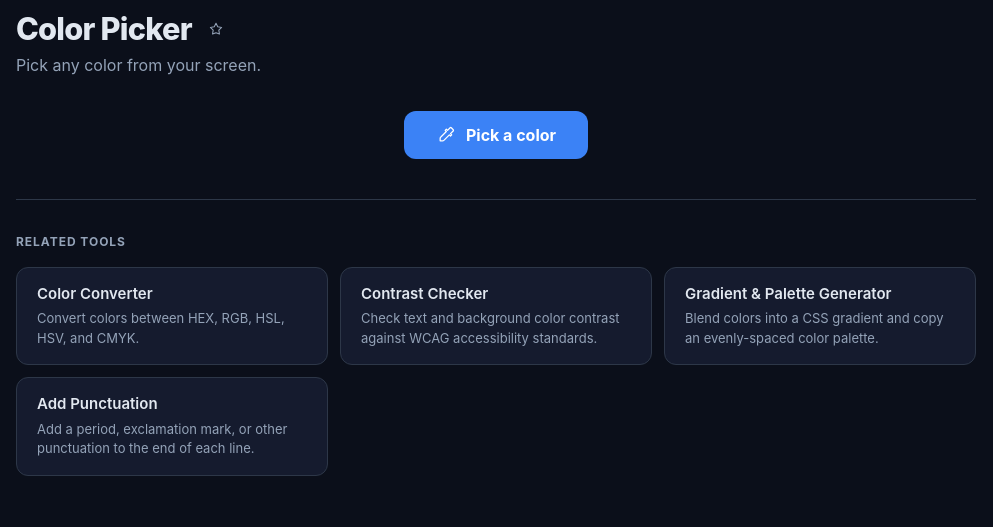
Test: ColorPicker — EyeDropper supported › shows an error message on non-abort failures
The width and height of the screenshot is (993, 527).
Click the button with aria-label "pick a color from the screen". click: coordinates (496, 135)
box: [404,111,588,159]
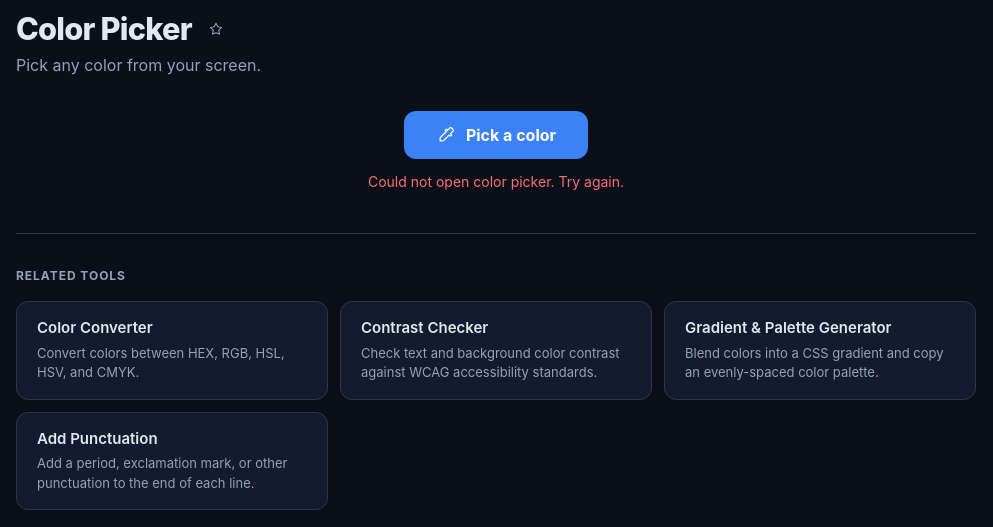
Expected: the message "Could not open color picker. Try again." is shown, [368,171,624,193]
